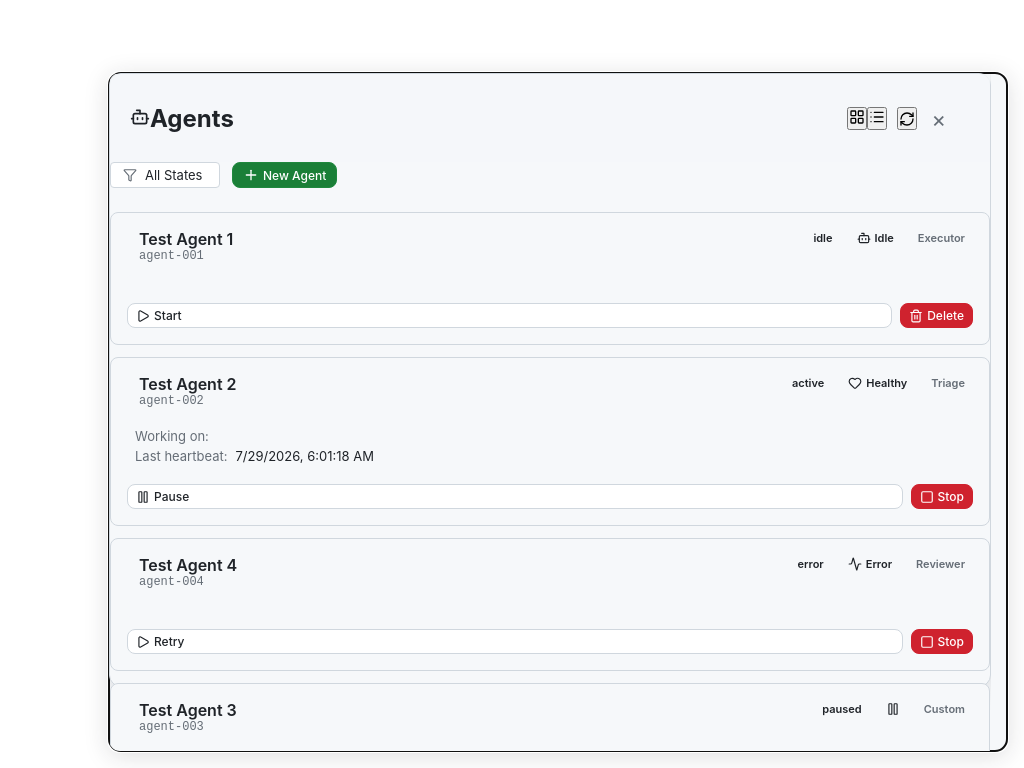
Test: AgentListModal › agent state changes › optimistically updates list card state before API resolves
Click the button titled "Activate" at (143, 316), box [127, 303, 892, 328]
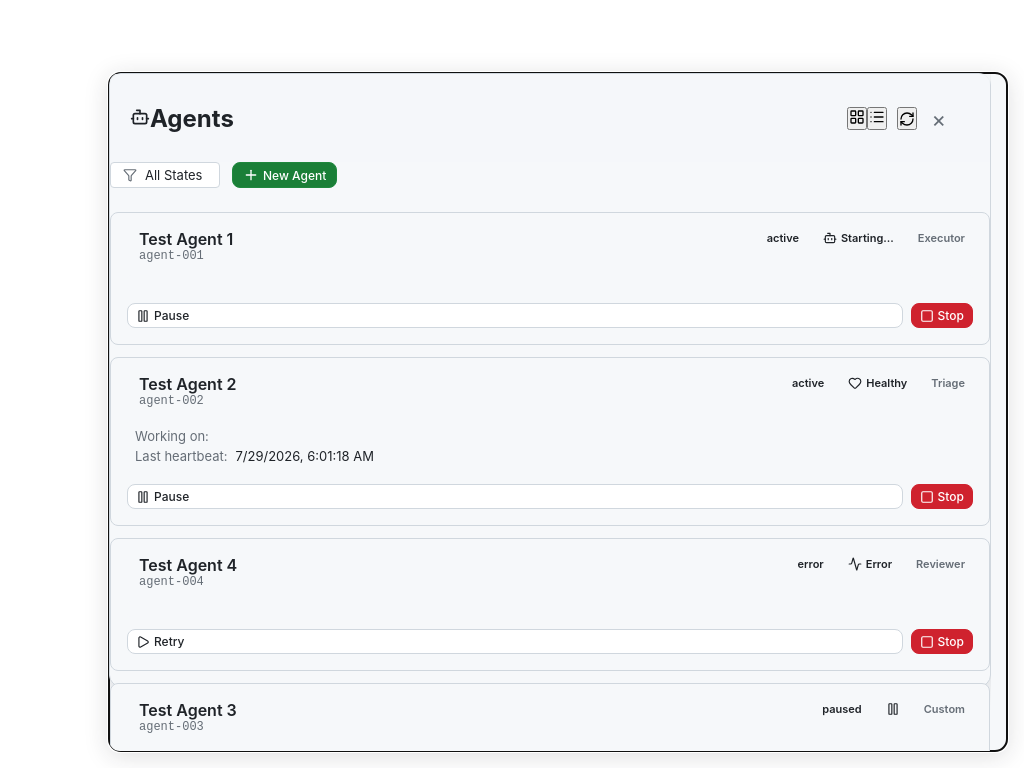
Expected: the button titled "Pause" below "agent-001" is shown, [127, 303, 903, 328]
Now the element with class "agent-card" shows "active", box [767, 231, 799, 245]
